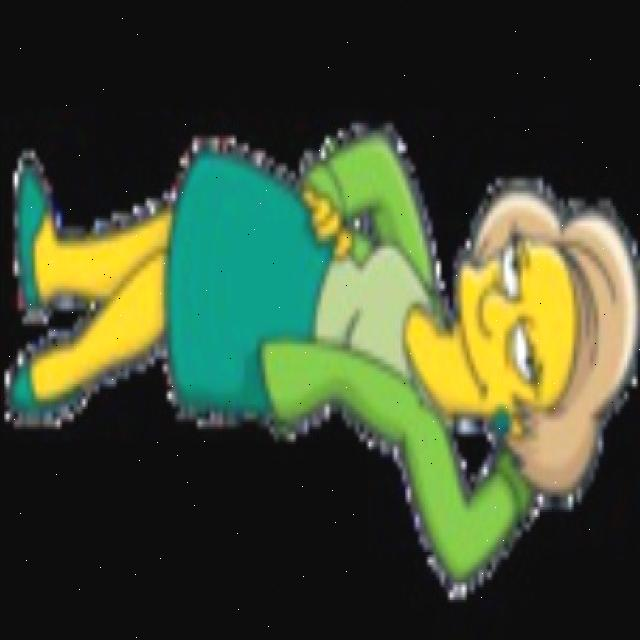Edna Krappel: (420, 181, 636, 497)
